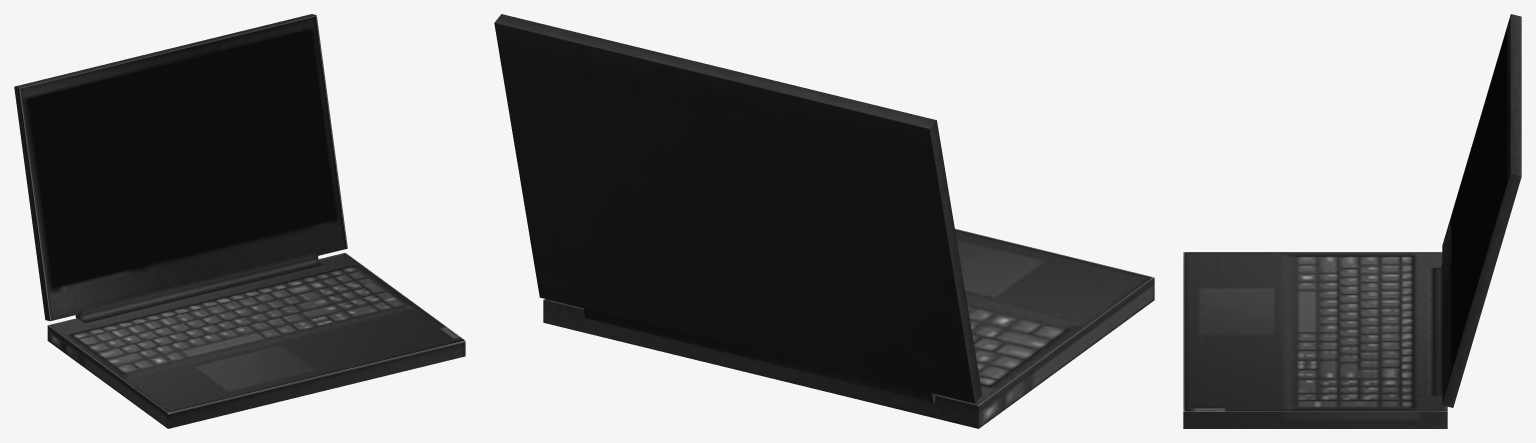
Rendered from Laptop.fbx.
The picture shows the model from 3 angles, left to right: view 1: azimuth 30°, elevation 25°; view 2: azimuth 150°, elevation 25°; view 3: azimuth 270°, elevation 25°; orthographic projection. The views are drawn at different scales.
Parts seen in each view (by area): view 1: LaptopScreen, LaptopKeyboard; view 2: LaptopScreen, LaptopKeyboard; view 3: LaptopKeyboard, LaptopScreen.
Boxes of the visible parts, x1,y1,x2,y2 form: LaptopScreen: (14, 14, 347, 321); LaptopKeyboard: (47, 252, 465, 428); LaptopScreen: (494, 14, 982, 403); LaptopKeyboard: (543, 228, 1154, 428); LaptopKeyboard: (1183, 252, 1447, 428); LaptopScreen: (1440, 14, 1521, 407).
Bounding box in the file's own units: 50 × 37.25 × 44.78.
Materials: 1 (1 with a texture image).
